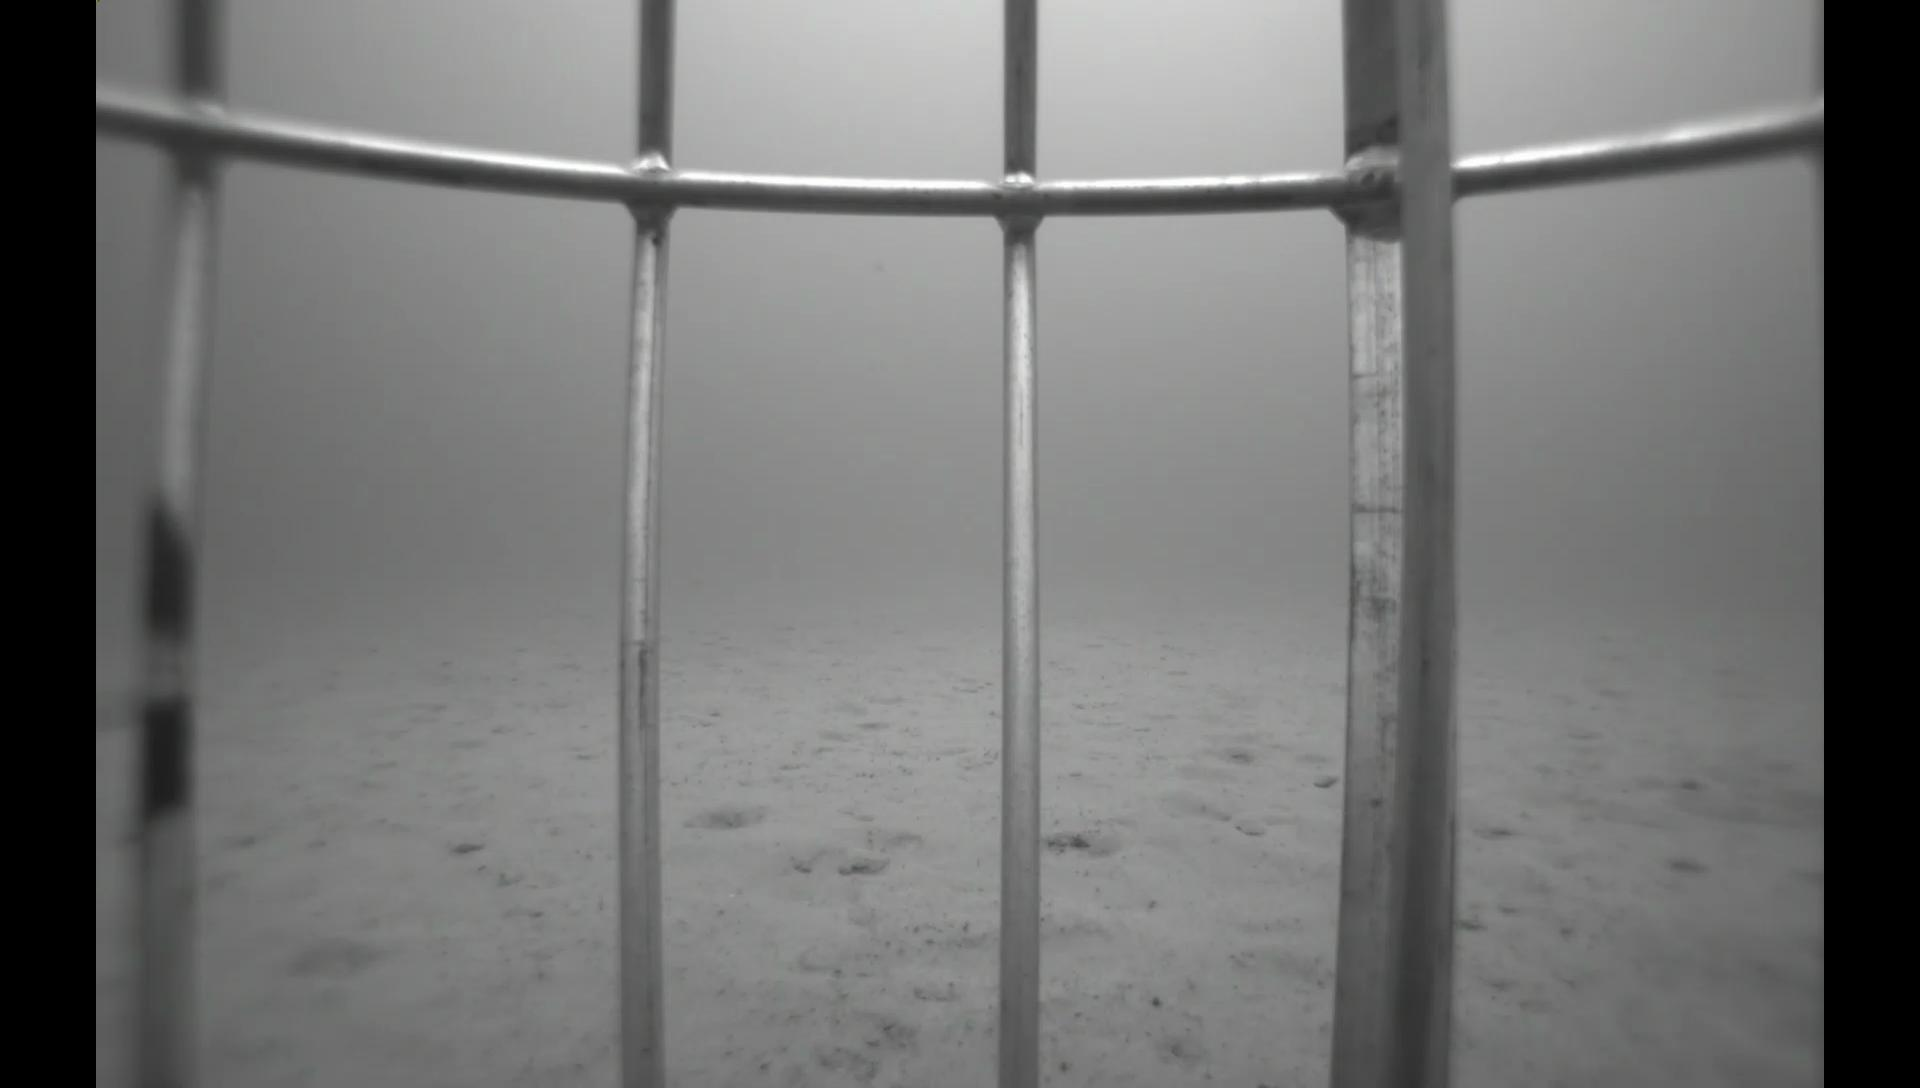CAULOLATILUSCYANOPS-170070101: (1663, 712, 1821, 833)
